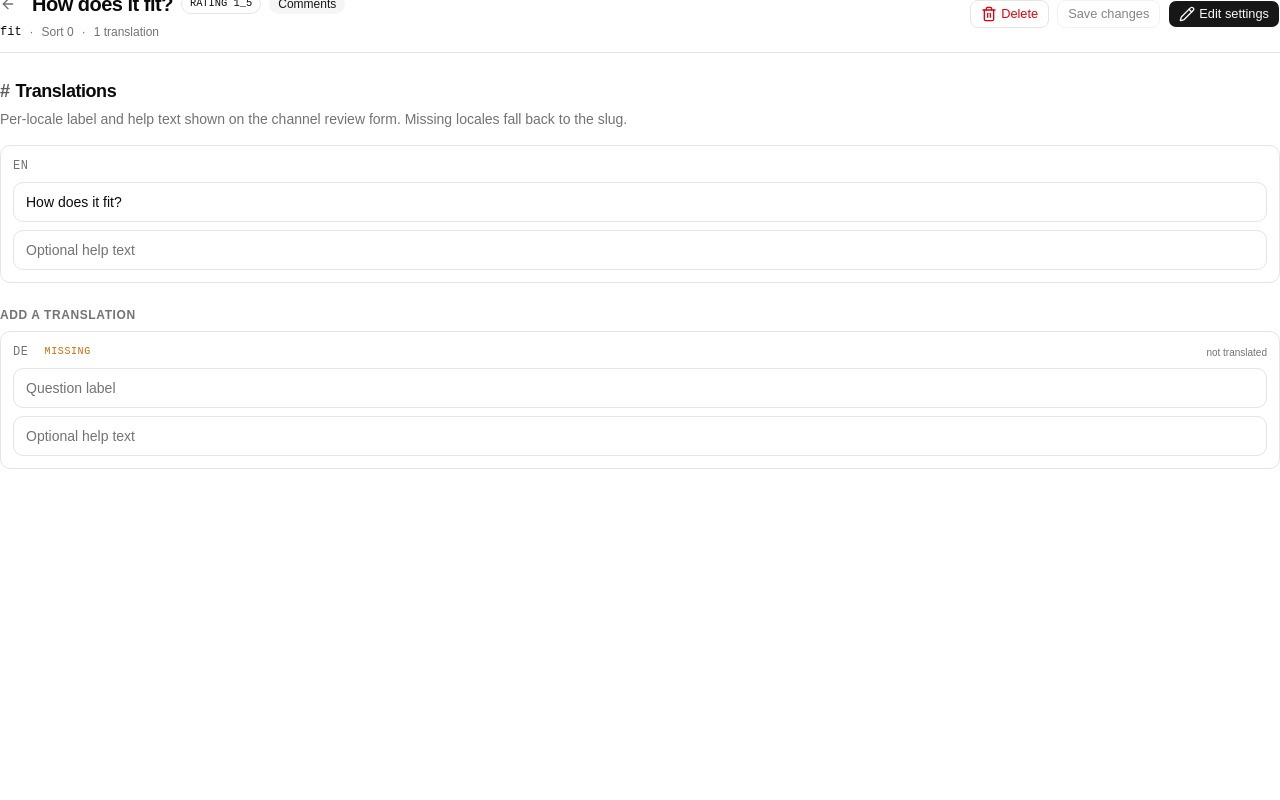
Test case: ReviewQuestionDetail › refuses to empty a stored label
This screenshot has width=1280, height=800.
Clear the field named "Label (en)" at {"x": 640, "y": 202}, box x1=13 y1=182 x2=1267 y2=222
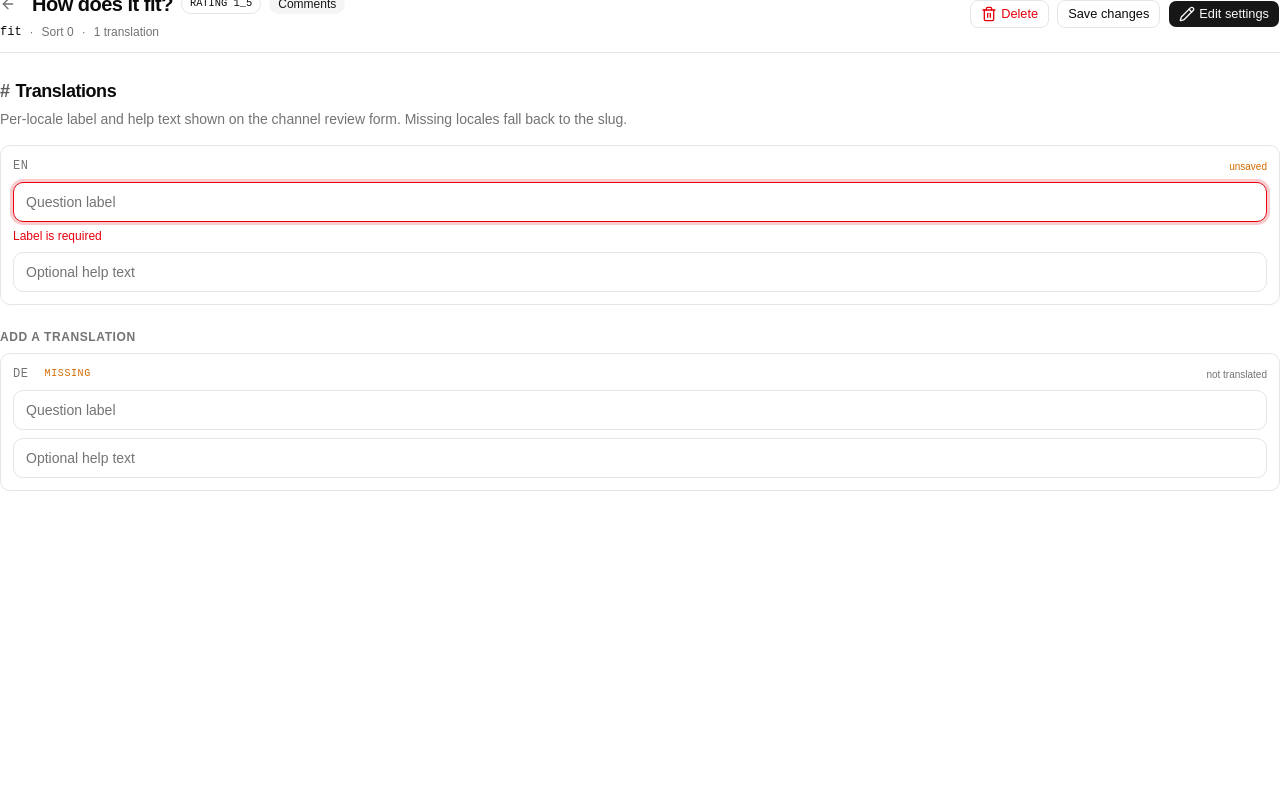
Click the button "Save changes" at {"x": 1109, "y": 14}, box x1=1057 y1=0 x2=1160 y2=28
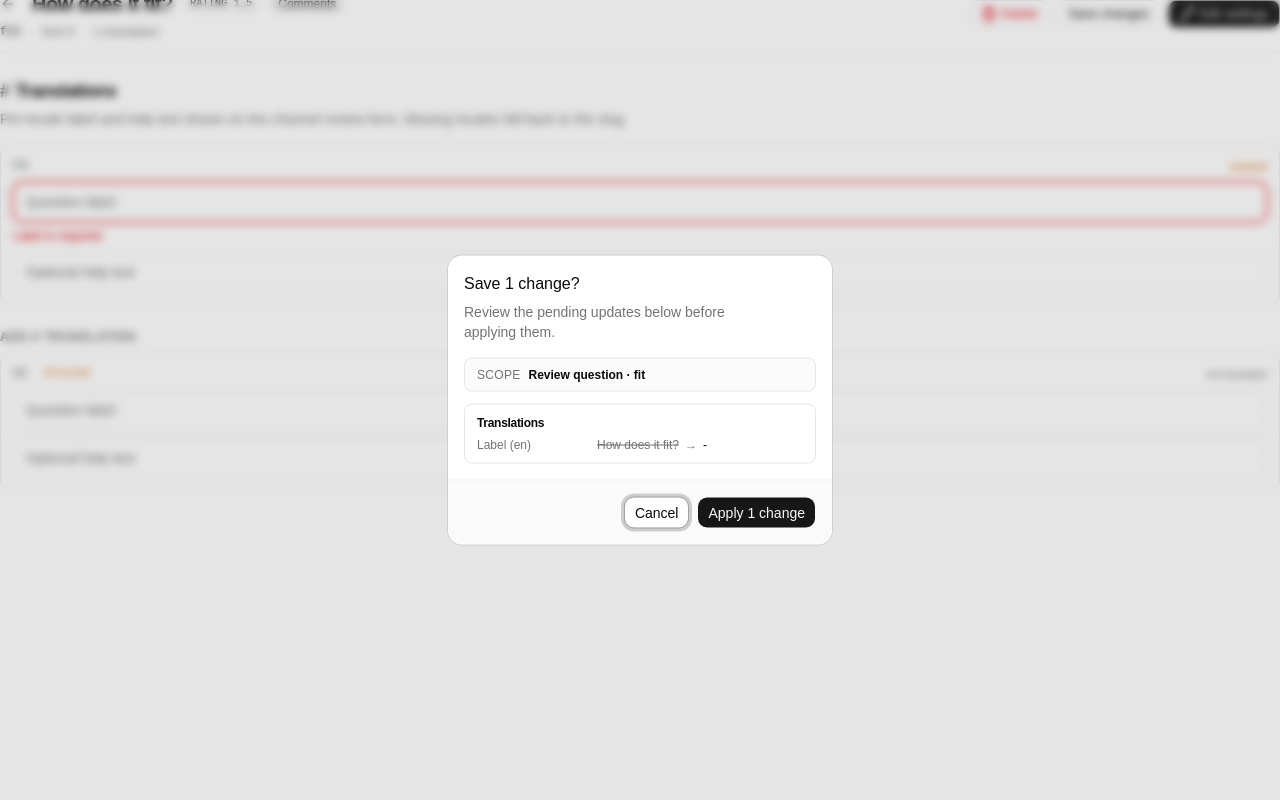
Click the button "Apply 1 change" at {"x": 757, "y": 512}, box x1=698 y1=496 x2=816 y2=528
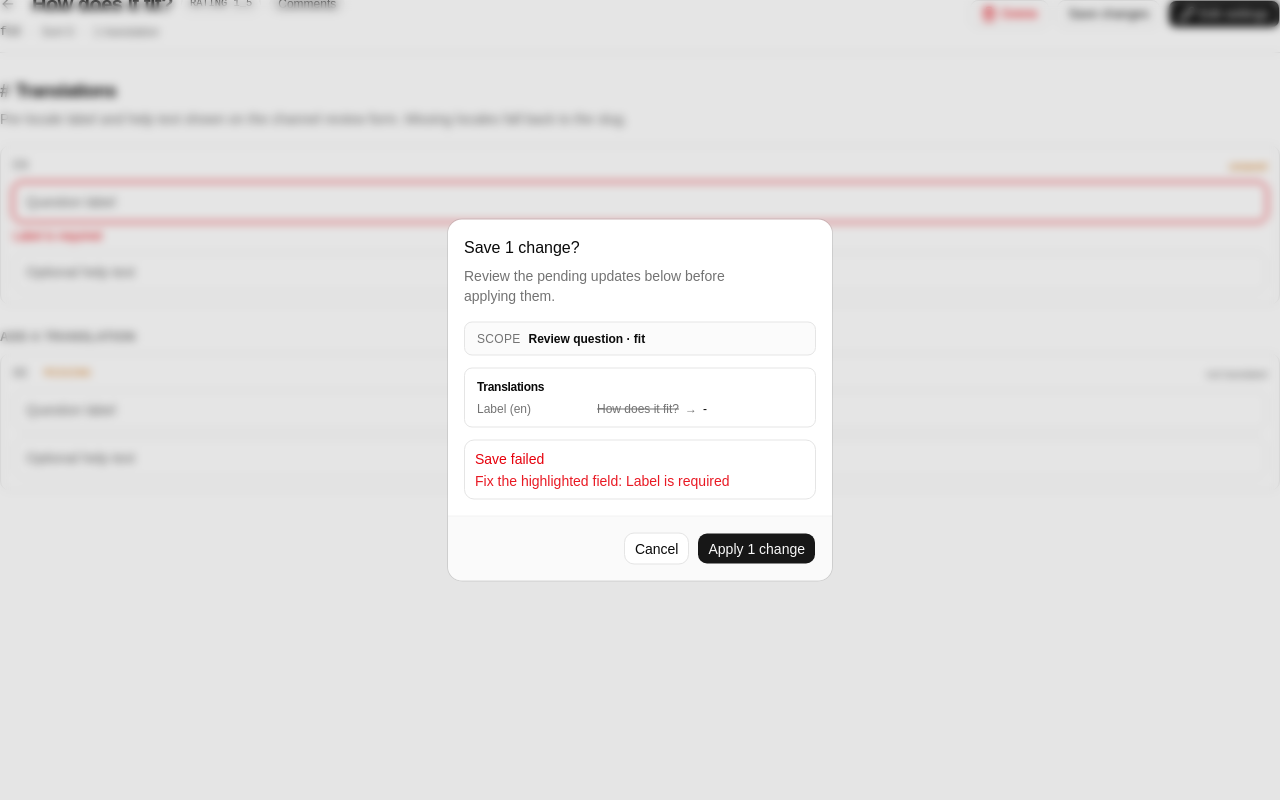
Now the text "Fix the highlighted field: Label is required" is shown, box x1=475 y1=472 x2=730 y2=488
